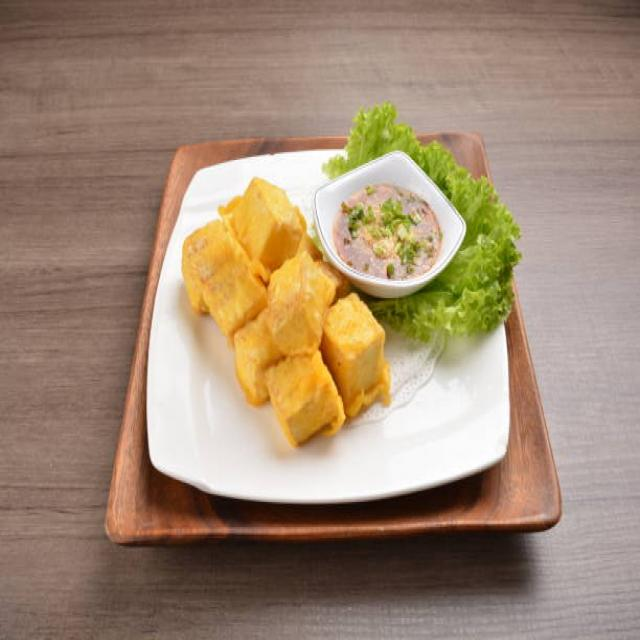tofu: (326, 292, 387, 410), (267, 252, 329, 354), (272, 356, 339, 442), (246, 176, 302, 251), (178, 223, 222, 316), (235, 325, 266, 403)
